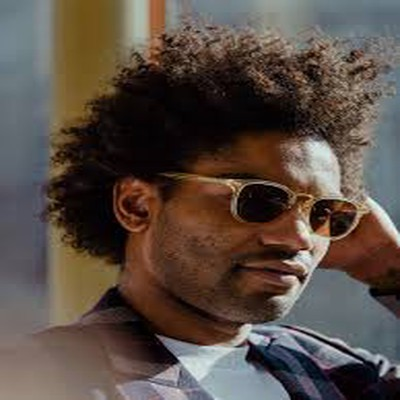eywear: (163, 146, 366, 245)
